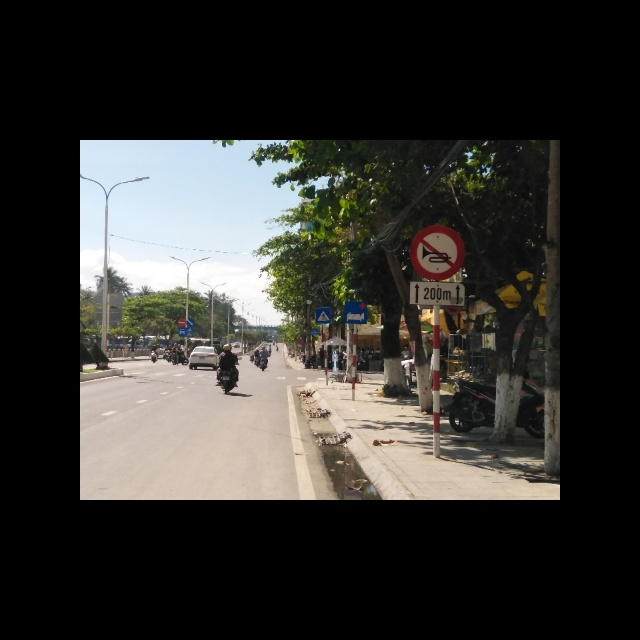Bệnh viện: (344, 300, 368, 324)
Cấm bấm còi: (411, 225, 464, 281)
Đường dành cho người đi bộ: (314, 307, 333, 324)
